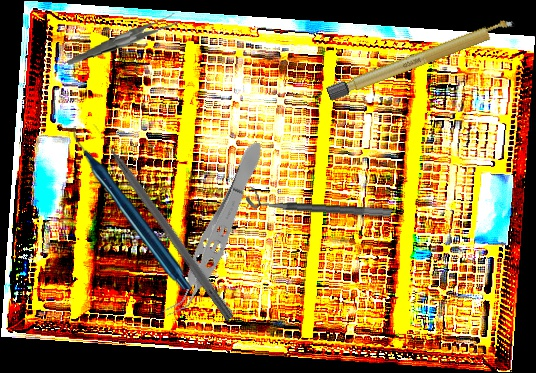Dressing Forceps: (64, 13, 181, 65)
Fixation Ring: (245, 185, 393, 219)
Handpiece: (73, 126, 192, 289)
Pusher: (89, 119, 237, 322)
Scalpel Handle: (325, 15, 519, 103)
Tissue Forceps: (160, 135, 273, 327)
